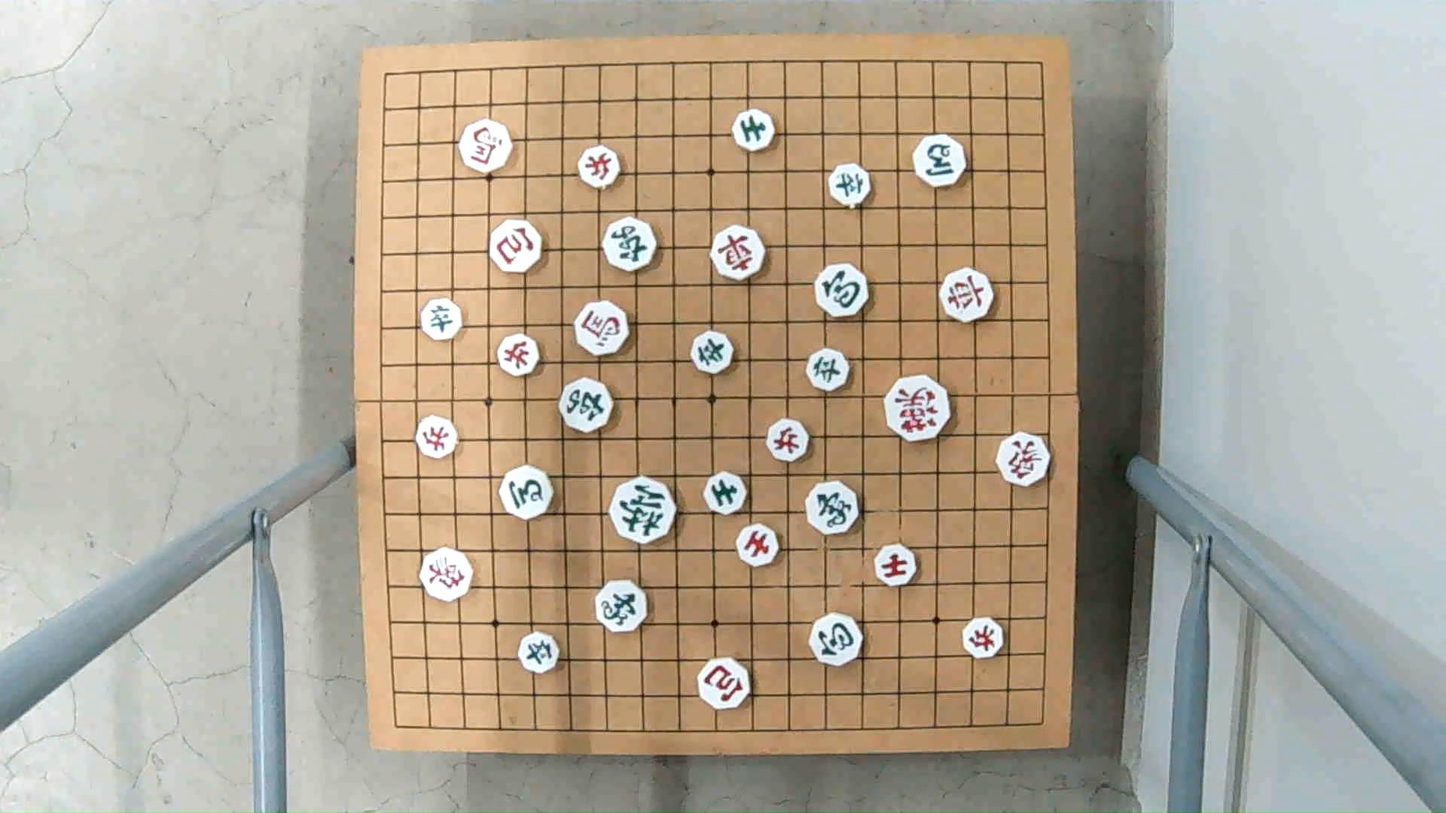cha_green: (603, 217, 655, 269), (560, 379, 610, 431)
cha_red: (940, 269, 995, 323), (712, 228, 766, 278)
jol_green: (828, 165, 874, 206), (803, 349, 850, 389), (688, 333, 734, 373), (517, 632, 563, 671), (420, 300, 466, 339)
jol_red: (575, 148, 621, 188), (496, 336, 543, 375), (960, 619, 1008, 656), (764, 420, 810, 458), (415, 418, 456, 459)
ma_green: (498, 468, 554, 519), (914, 138, 969, 187)
ma_red: (574, 303, 630, 352), (461, 122, 513, 169)
po_green: (813, 264, 868, 316), (807, 614, 864, 664)
po_red: (487, 222, 543, 271), (694, 661, 751, 708)
sa_green: (703, 473, 750, 514), (733, 111, 779, 151)
sa_red: (734, 525, 780, 565), (871, 545, 917, 584)
sang_green: (802, 483, 859, 531), (594, 584, 649, 632)
sang_red: (996, 433, 1053, 487), (418, 549, 474, 602)
wang_green: (609, 480, 679, 539)
wang_red: (886, 375, 950, 441)
